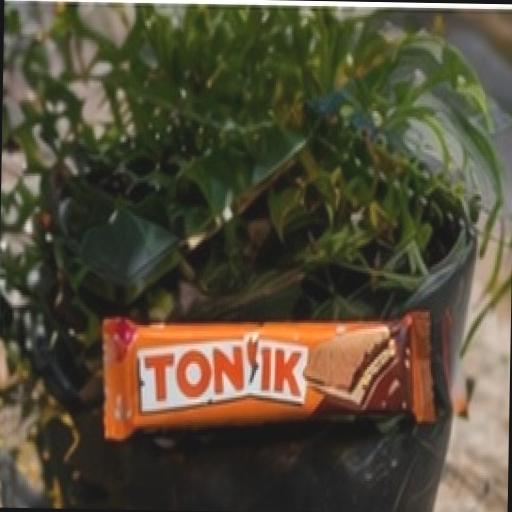tonik: (41, 197, 492, 512)
